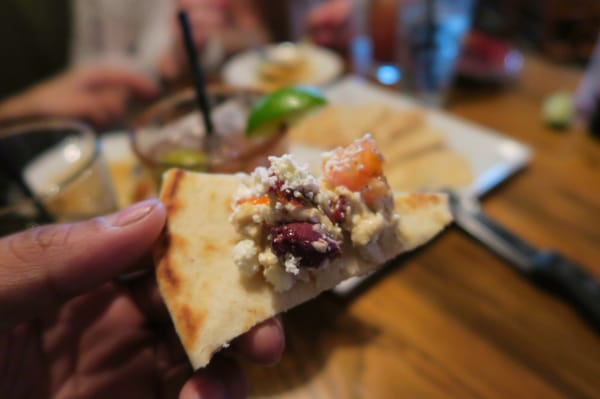pizza: (399, 1, 476, 107)
